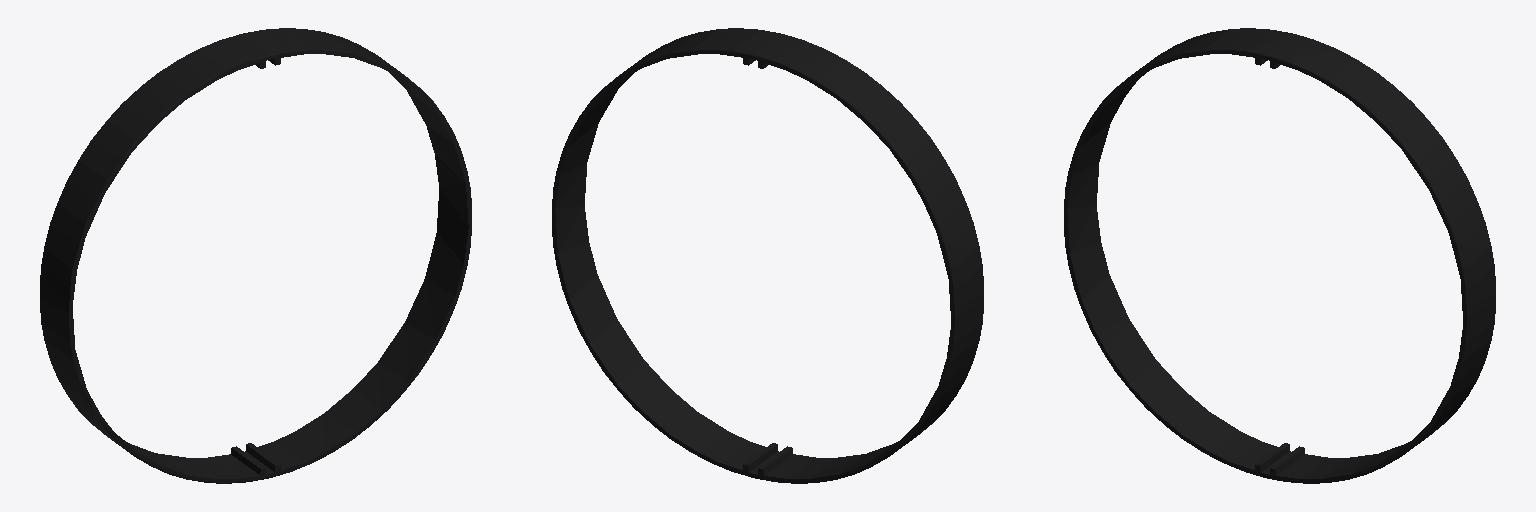
The model's file is right_arm_2_2.obj.
3 renders of one model, left to right at view 1: azimuth 30°, elevation 25°; view 2: azimuth 150°, elevation 25°; view 3: azimuth 330°, elevation 25°, orthographic.
Bounding box in the file's own units: 0.0887 × 0.089 × 0.0112.